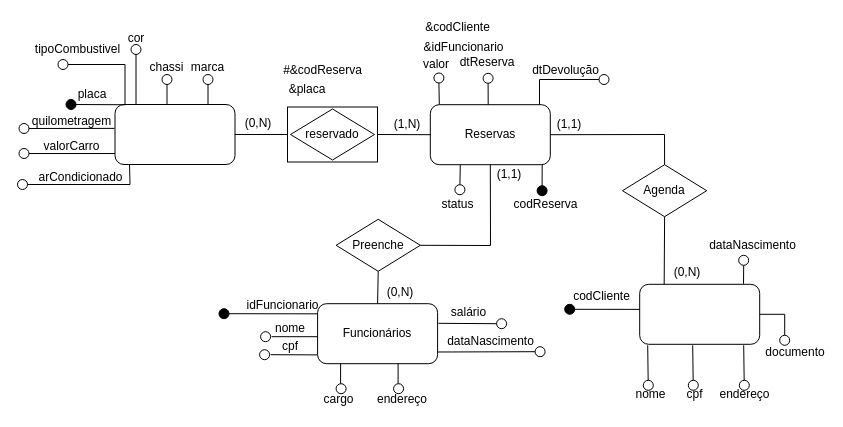
Image size: 843x427. Some labels were removed from this diagram. The shapes that lost their labels are listed below. From the top down, each one's centre as x and y in pixels, then its label:
At point (174, 134): "Veículos".
At point (699, 313): "Cliente".
